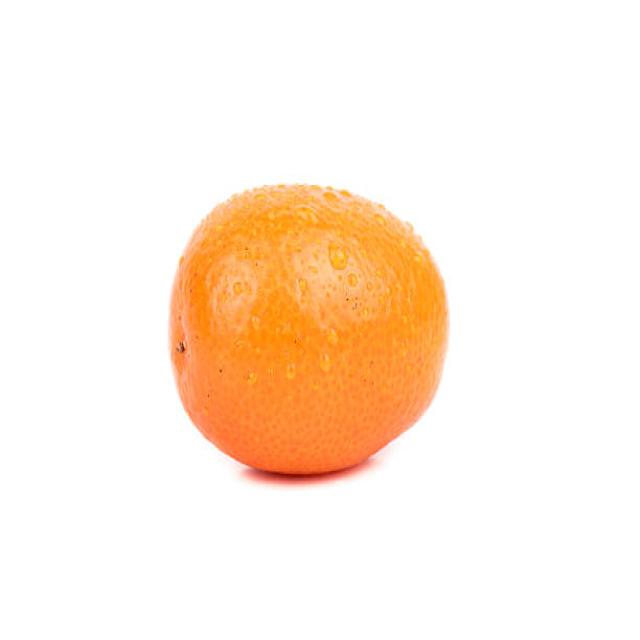Ripe: (166, 175, 452, 477)
